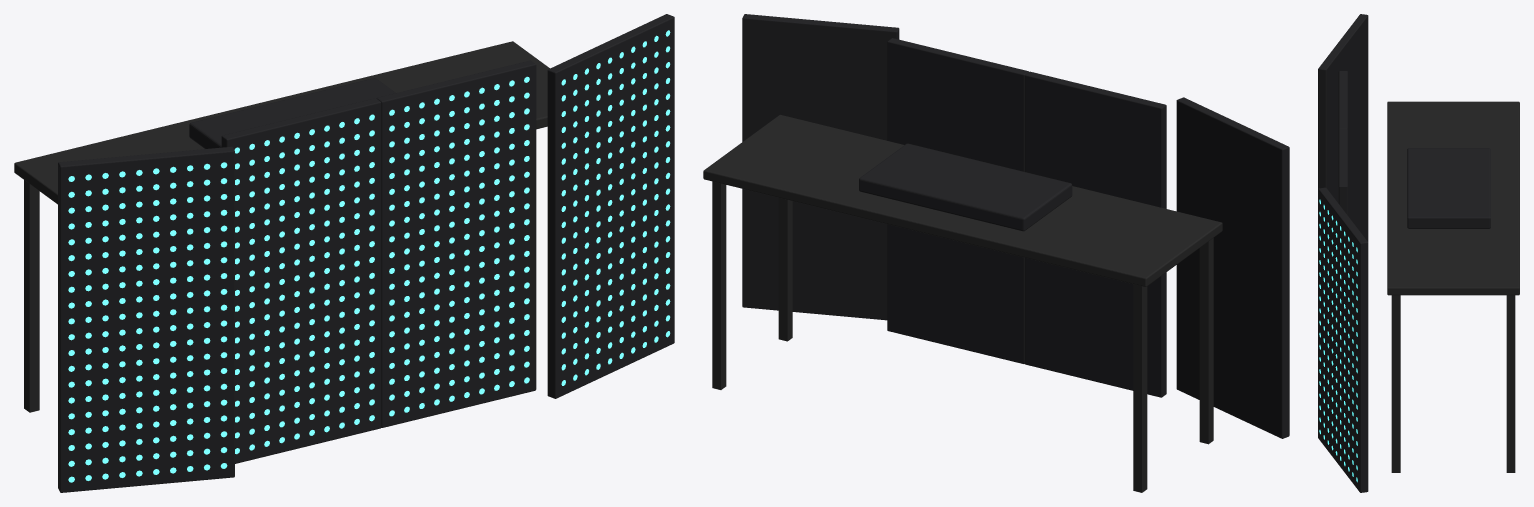
Rendered from dj-booth-pixel.glb.
3 renders of one model, left to right at view 1: azimuth 30°, elevation 25°; view 2: azimuth 150°, elevation 25°; view 3: azimuth 270°, elevation 25°, orthographic. The views are drawn at different scales.
Visible parts, largest first — view 1: PanelPixel_1_marco, PanelPixel_3_marco, PanelPixel_2_marco, PanelPixel_4_marco, Mesa_DJ.001, PanelPixel_1_pixeles, PanelPixel_3_pixeles, PanelPixel_2_pixeles, PanelPixel_4_pixeles, Controlador_DJ.001, Mesa_pata.005; view 2: PanelPixel_4_marco, PanelPixel_1_marco, PanelPixel_2_marco, PanelPixel_3_marco, Mesa_DJ.001, Controlador_DJ.001, Mesa_pata.005, Mesa_pata.007, Mesa_pata.004, Mesa_pata.006; view 3: Mesa_DJ.001, PanelPixel_4_marco, PanelPixel_1_marco, Controlador_DJ.001, PanelPixel_4_pixeles, Mesa_pata.006, Mesa_pata.007, PanelPixel_3_marco, PanelPixel_2_marco.
Part boxes in pixels (left/top/right/bottom): PanelPixel_1_marco: left=58, top=146, right=234, bottom=492; PanelPixel_3_marco: left=376, top=60, right=536, bottom=427; PanelPixel_2_marco: left=221, top=98, right=381, bottom=463; PanelPixel_4_marco: left=547, top=14, right=674, bottom=398; Mesa_DJ.001: left=14, top=41, right=549, bottom=204; PanelPixel_1_pixeles: left=68, top=162, right=227, bottom=482; PanelPixel_3_pixeles: left=389, top=76, right=529, bottom=416; PanelPixel_2_pixeles: left=234, top=114, right=374, bottom=454; PanelPixel_4_pixeles: left=561, top=30, right=670, bottom=385; Controlador_DJ.001: left=189, top=78, right=395, bottom=148; Mesa_pata.005: left=24, top=180, right=39, bottom=412; PanelPixel_4_marco: left=742, top=14, right=899, bottom=320; PanelPixel_1_marco: left=1176, top=97, right=1289, bottom=438; PanelPixel_2_marco: left=1024, top=71, right=1166, bottom=397; PanelPixel_3_marco: left=887, top=38, right=1028, bottom=363; Mesa_DJ.001: left=703, top=114, right=1222, bottom=286; Controlador_DJ.001: left=859, top=143, right=1072, bottom=231; Mesa_pata.005: left=1133, top=284, right=1147, bottom=492; Mesa_pata.007: left=712, top=181, right=726, bottom=389; Mesa_pata.004: left=1199, top=238, right=1213, bottom=444; Mesa_pata.006: left=778, top=197, right=792, bottom=341; Mesa_DJ.001: left=1387, top=101, right=1519, bottom=295; PanelPixel_4_marco: left=1318, top=187, right=1368, bottom=492; PanelPixel_1_marco: left=1318, top=14, right=1368, bottom=241; Controlador_DJ.001: left=1407, top=148, right=1490, bottom=228; PanelPixel_4_pixeles: left=1319, top=199, right=1357, bottom=482; Mesa_pata.006: left=1391, top=295, right=1400, bottom=472; Mesa_pata.007: left=1506, top=295, right=1515, bottom=472; PanelPixel_3_marco: left=1338, top=128, right=1347, bottom=214; PanelPixel_2_marco: left=1338, top=71, right=1347, bottom=129.
Bounding box in the file's own units: 2.46 × 1.27 × 0.9137.
